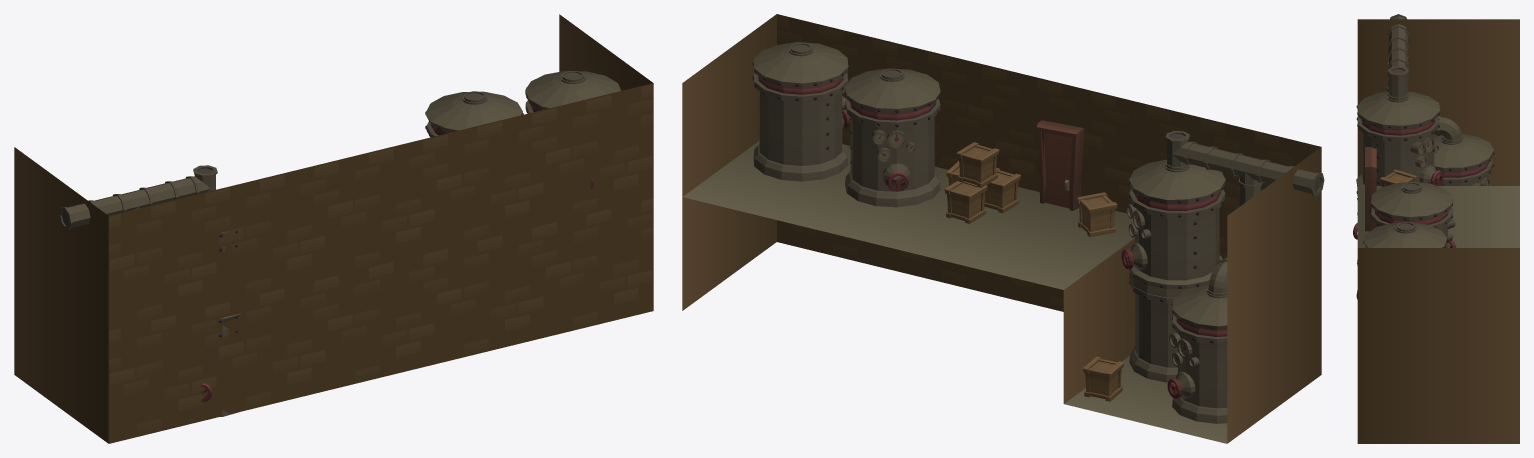
The model's file is Room20_8x20.fbx.
The picture shows the model from 3 angles, left to right: view 1: azimuth 30°, elevation 25°; view 2: azimuth 150°, elevation 25°; view 3: azimuth 270°, elevation 25°; orthographic projection. The views are drawn at different scales.
Visible parts, largest first — view 1: Room20_8x20; view 2: Room20_8x20; view 3: Room20_8x20.
Part boxes in pixels (<box>): Room20_8x20: <box>14,14,653,443</box>; Room20_8x20: <box>682,14,1324,443</box>; Room20_8x20: <box>1353,14,1519,443</box>.
Size of the model in its own units: 2075 by 617 by 801.
